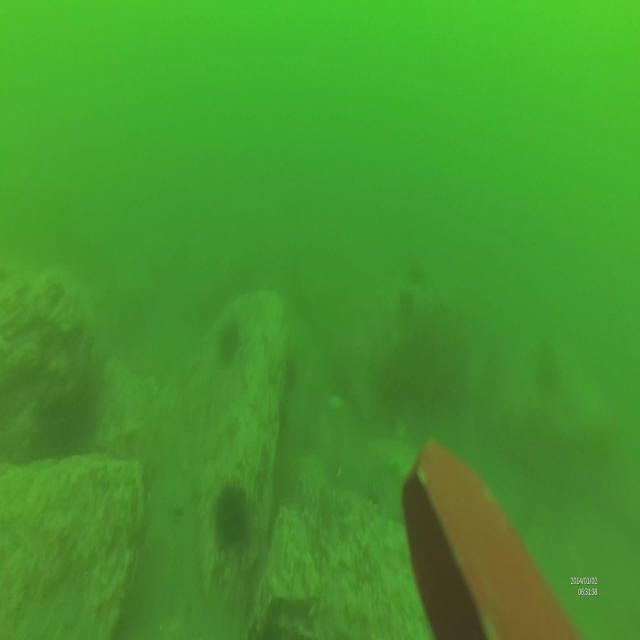echinus: (211, 479, 251, 552)
